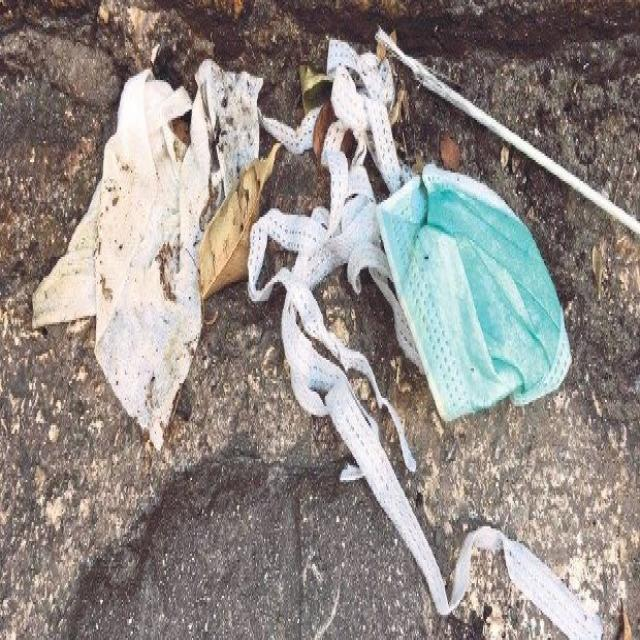face mask: (373, 164, 574, 421)
